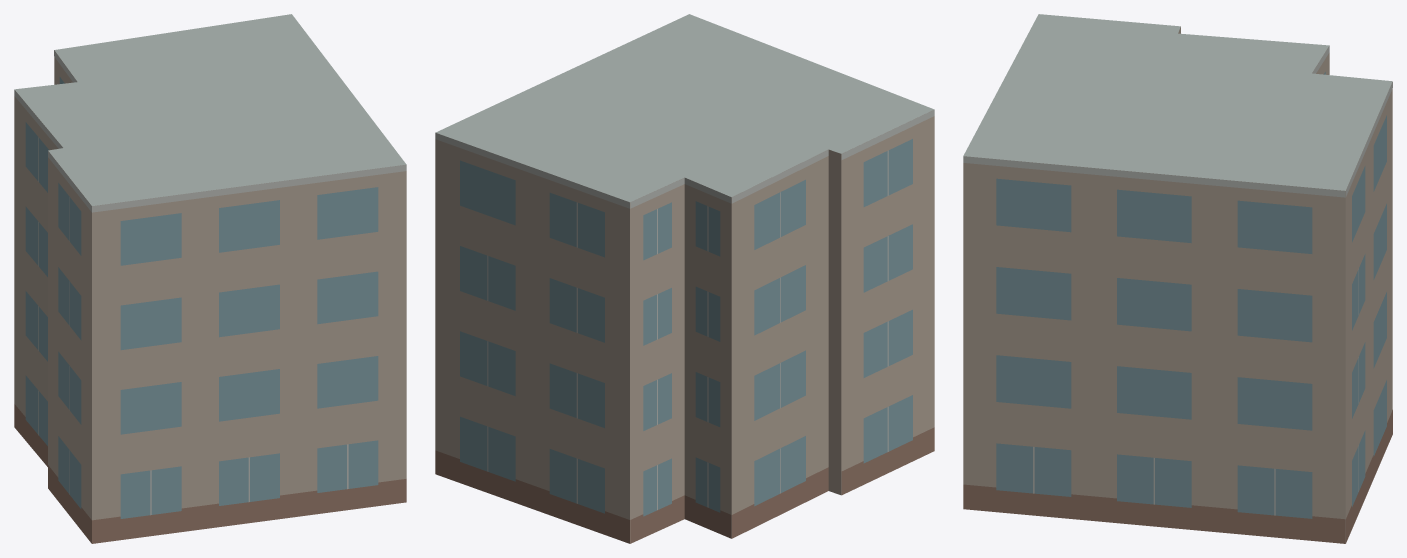
File: survey-upis-32663575.glb
The picture shows the model from 3 angles, left to right: view 1: azimuth 30°, elevation 25°; view 2: azimuth 150°, elevation 25°; view 3: azimuth 270°, elevation 25°; orthographic projection. The views are drawn at different scales.
Parts seen in each view (by area): view 1: survey-upis-32663575.tmp; view 2: survey-upis-32663575.tmp; view 3: survey-upis-32663575.tmp.
Part boxes in pixels (bbox=[...]): survey-upis-32663575.tmp: bbox=[14, 14, 406, 543]; survey-upis-32663575.tmp: bbox=[435, 14, 934, 543]; survey-upis-32663575.tmp: bbox=[963, 14, 1392, 543].
Bounding box in the file's own units: 13.77 × 12.8 × 14.13.
